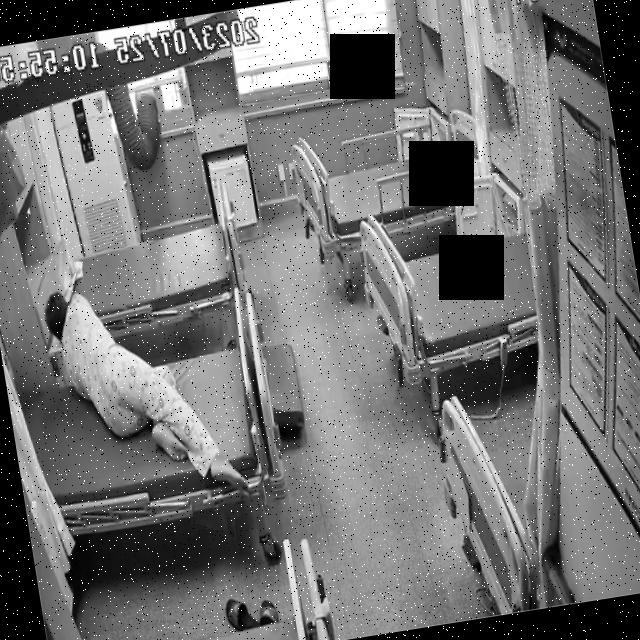bed: (14, 339, 272, 547), (350, 190, 548, 392), (290, 107, 492, 255), (52, 196, 250, 344)
danger: (42, 266, 252, 528)
patient: (42, 266, 254, 528)
